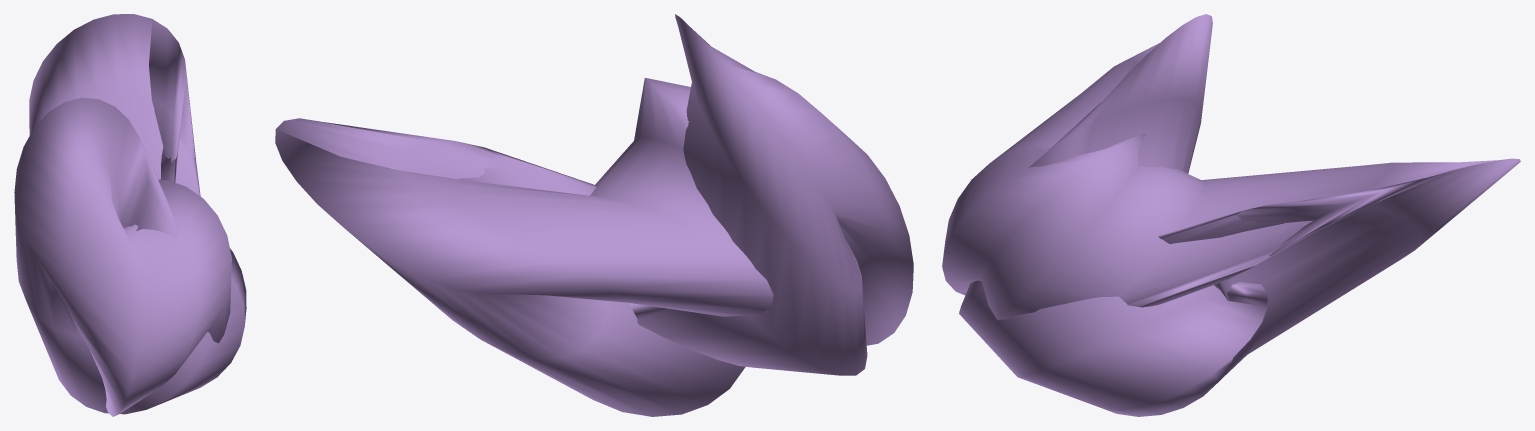
The picture shows the model from 3 angles, left to right: view 1: azimuth 30°, elevation 25°; view 2: azimuth 150°, elevation 25°; view 3: azimuth 270°, elevation 25°; orthographic projection. The views are drawn at different scales.
Parts seen in each view (by area): view 1: SE_CE; view 2: SE_CE; view 3: SE_CE.
Boxes of the visible parts, x1,y1,x2,y2 form: SE_CE: (14,14,246,416); SE_CE: (275,14,913,416); SE_CE: (942,14,1520,416).
Bounding box in the file's own units: 8.57 × 8.78 × 13.08.
